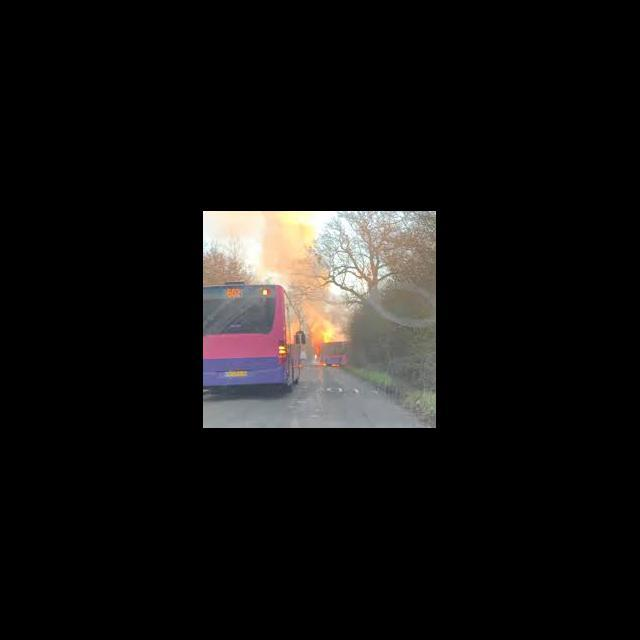Fire: (318, 321, 338, 342)
